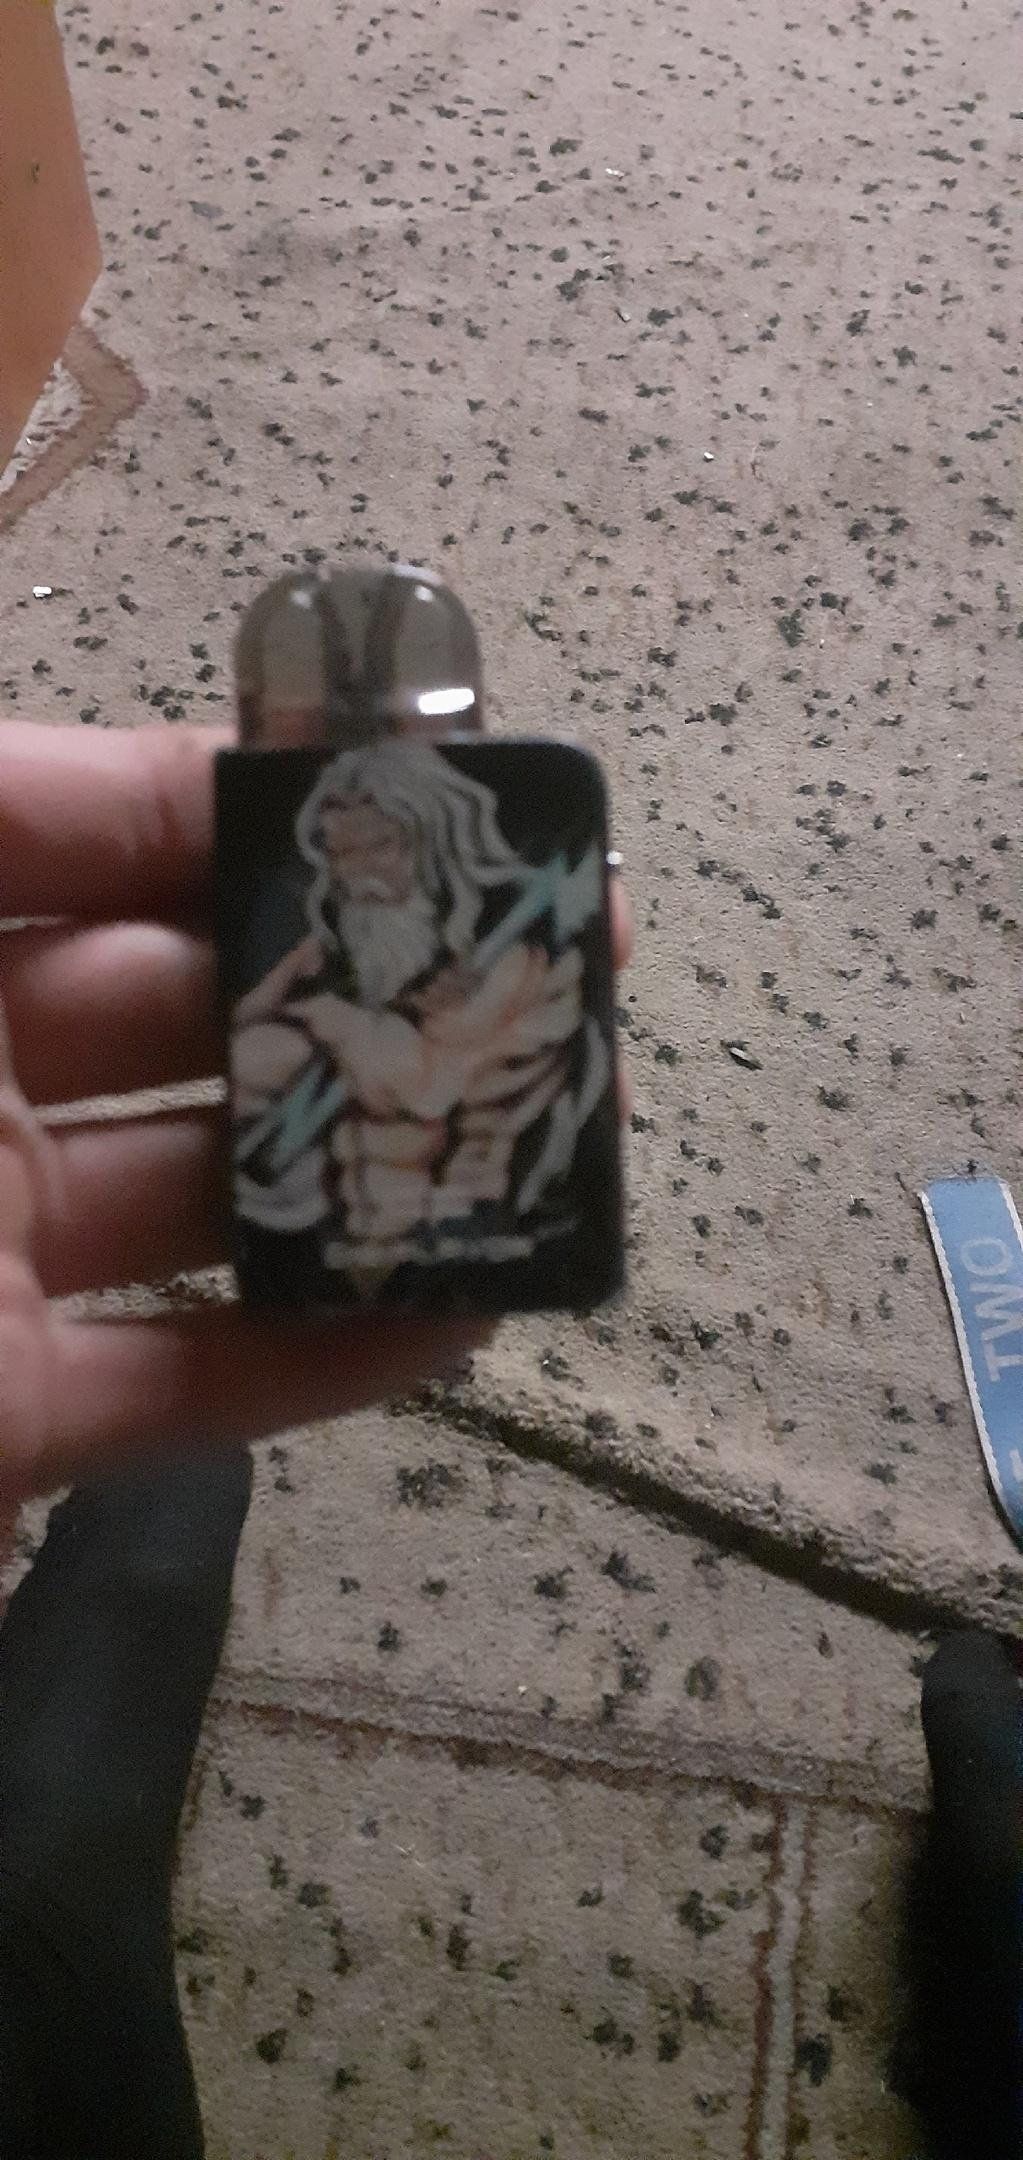Vape: (218, 565, 622, 1309)
